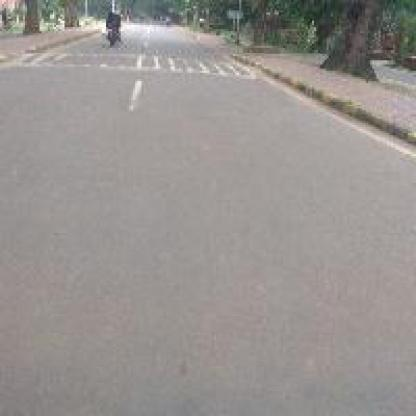Speed Bump: (0, 46, 258, 79)
